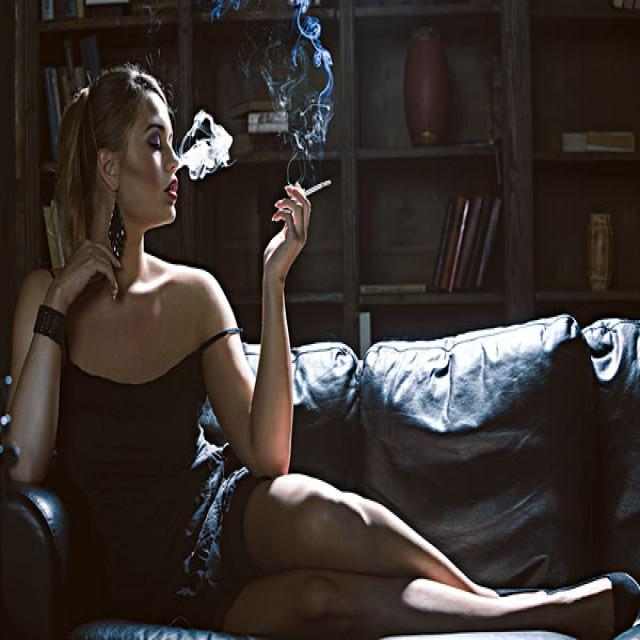smoking: (286, 174, 331, 207)
